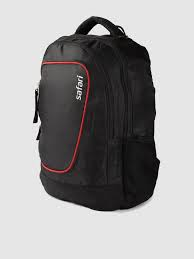backpack: (32, 15, 160, 211)
